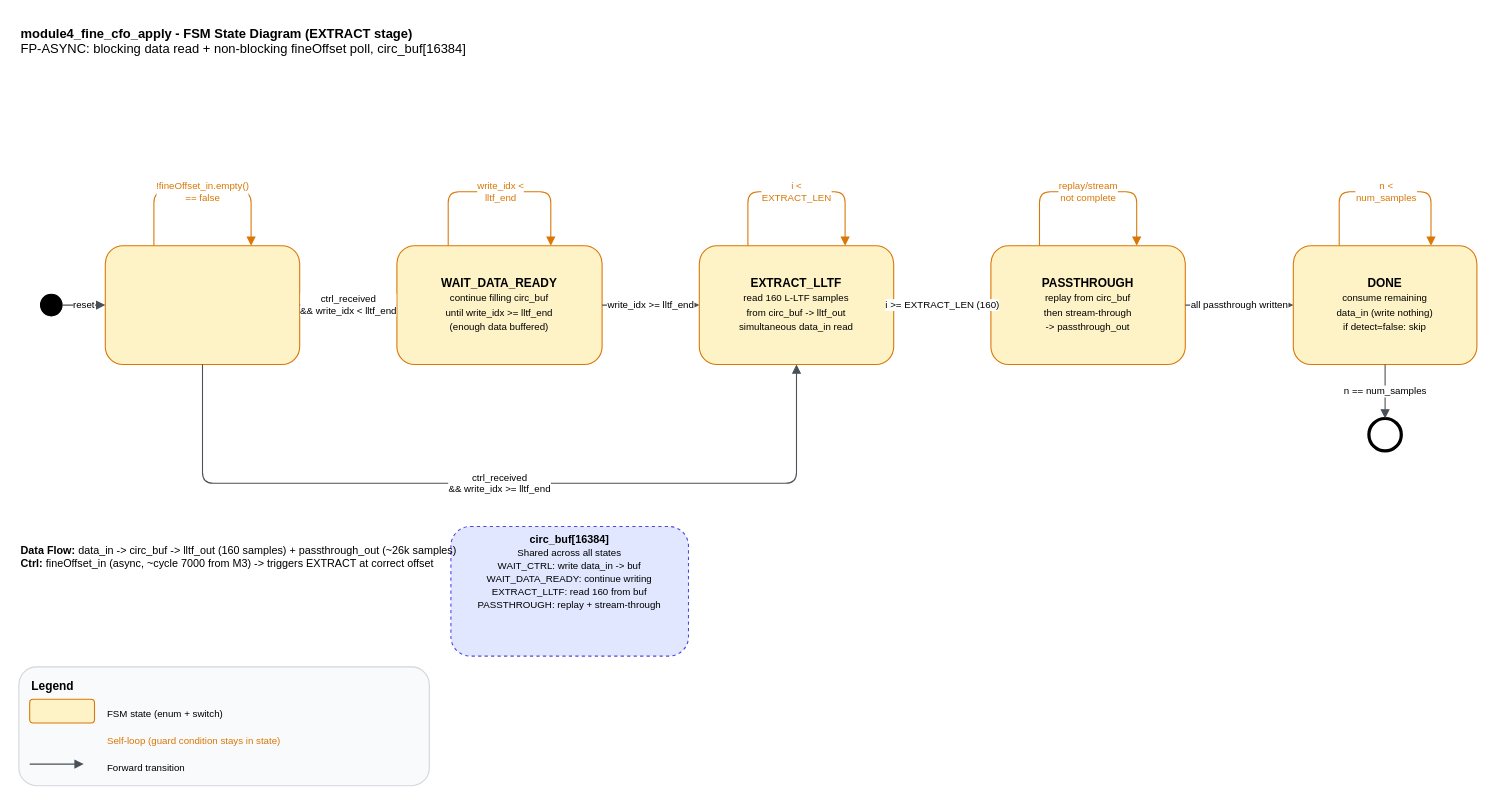
Image size: 1496x805. Some labels were removed from this diagram. The shapes that lost their labels are listed below. From the top down, each one's centre as x and y in pixels, then its label:
(x=202, y=304): WAIT_CTRL blocking data_in.read() write to circ_buf non-blocking fineOffset poll
(x=61, y=710): STATE
